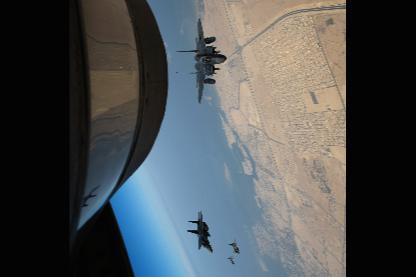F117: (175, 16, 226, 103), (187, 210, 212, 251)
Mirage2000: (227, 254, 234, 264)
RQ4: (228, 238, 239, 254)
